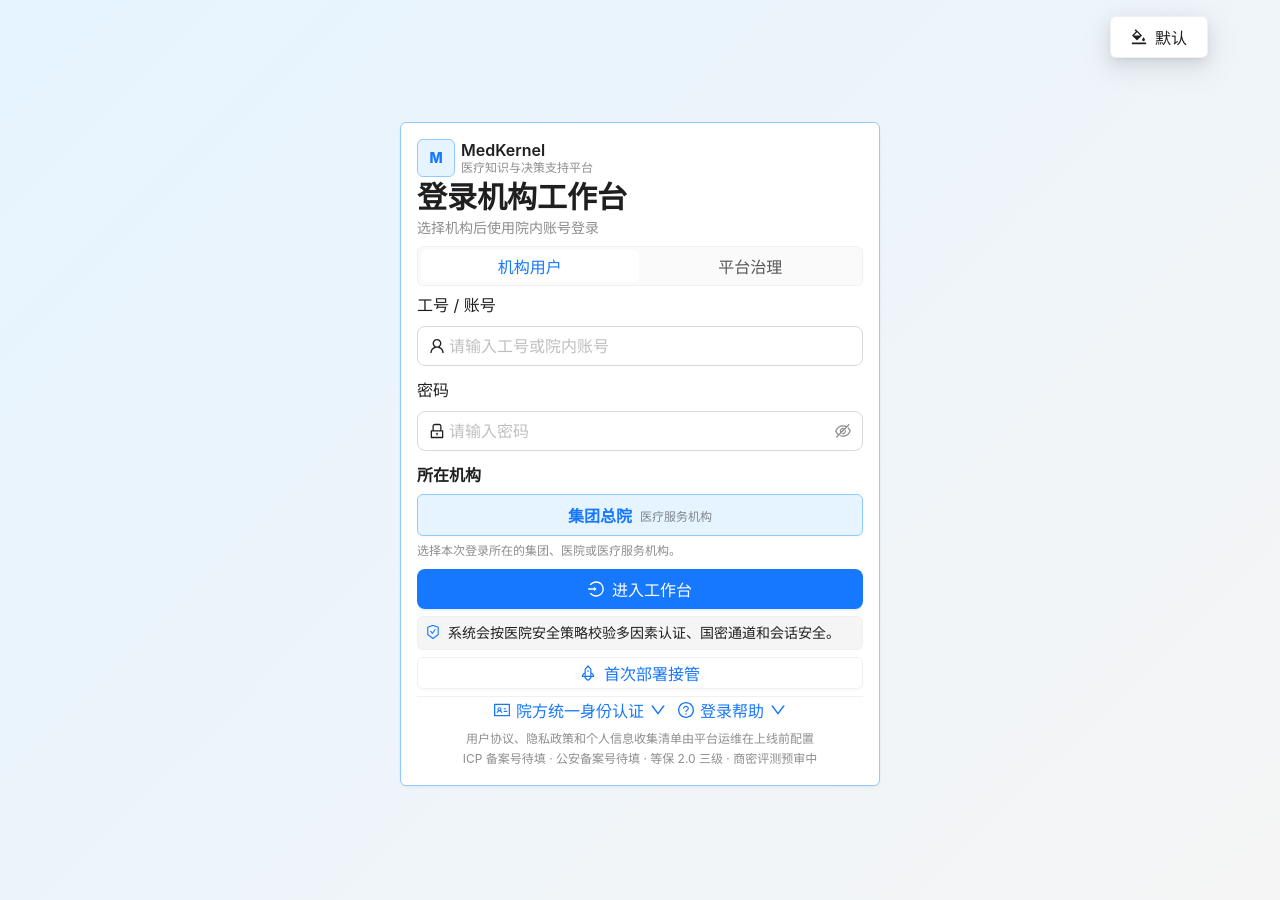
Test: Login › 客户租户存在时可展开第二层切换平台主租户登录
Click the button "平台治理".
click(750, 266)  # box [642,250,859,282]
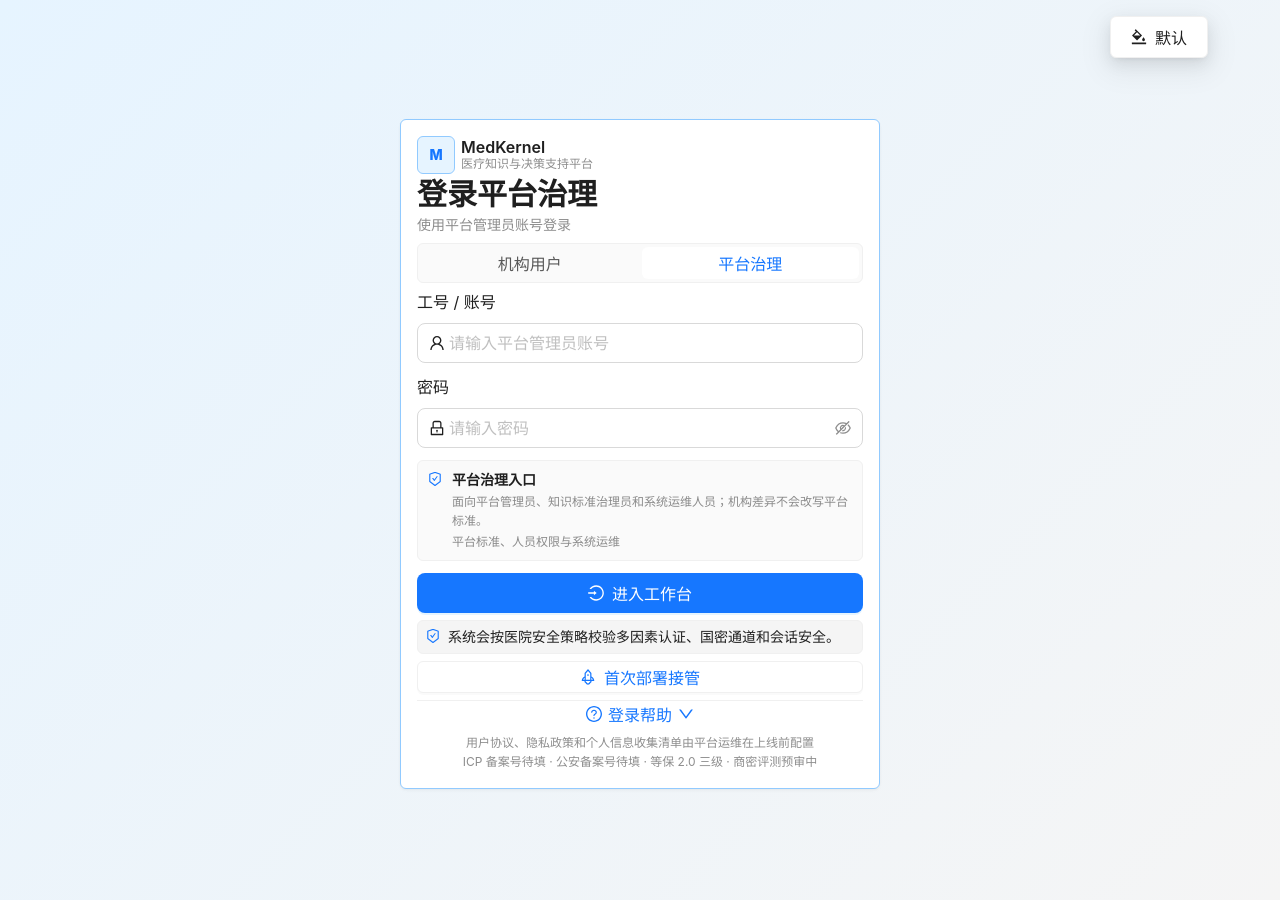
Expected: the text "平台治理入口" is shown, [452,471,536,488]
Expected: the text "面向平台管理员、知识标准治理员和系统运维人员；机构差异不会改写平台标准。" is shown, [452,493,852,531]
Expected: the button "院方统一身份认证" is gone
Click the button "机构用户".
click(530, 263)  # box [421,247,638,279]
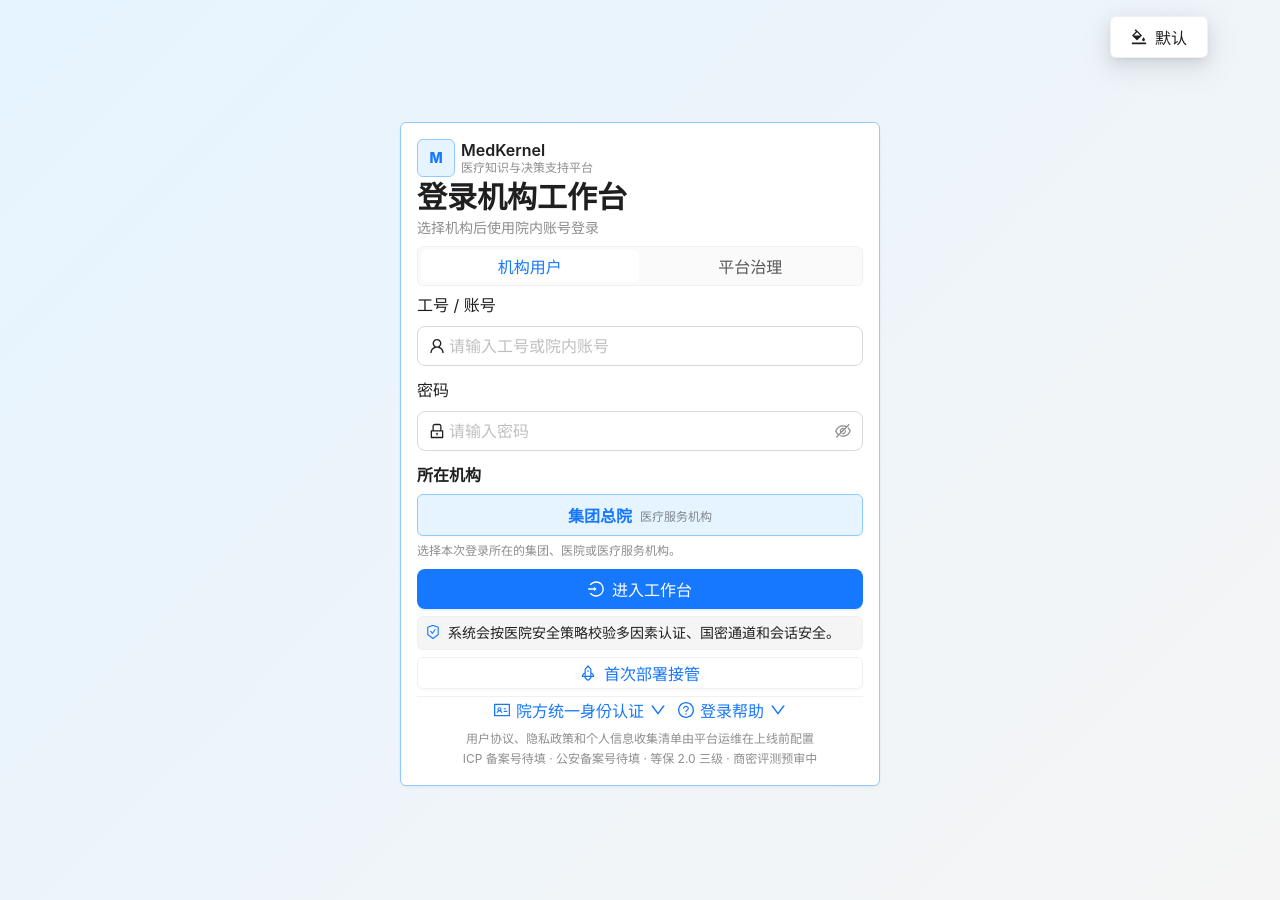
Expected: the button "院方统一身份认证" is shown, [493,697,667,723]
